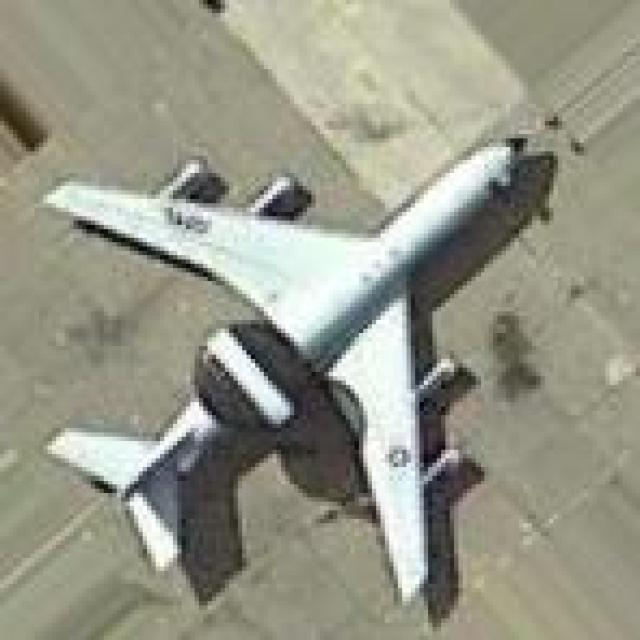E-3_TopDown: (35, 126, 558, 618)
